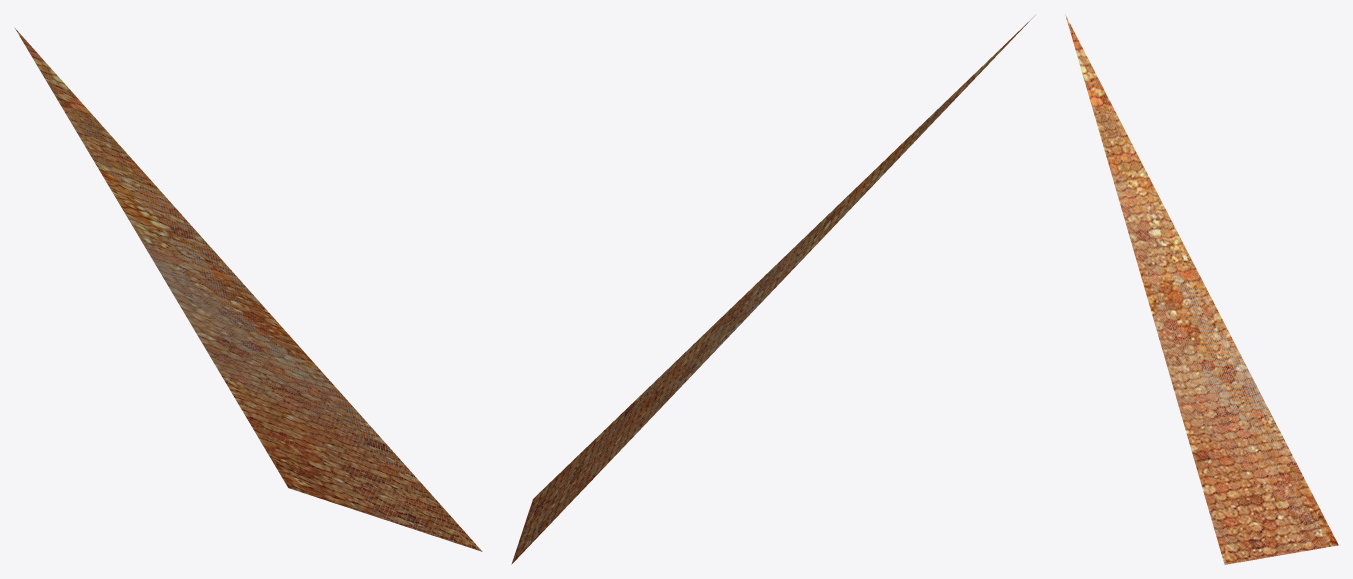
Rendered from 西庸城堡363.dae.
3 views of the same model, side by side, from view 1: azimuth 30°, elevation 25°; view 2: azimuth 150°, elevation 25°; view 3: azimuth 270°, elevation 25° (orthographic). The views are drawn at different scales.
Visible parts, largest first — view 1: SketchUp; view 2: SketchUp; view 3: SketchUp.
Part boxes in pixels (left/top/right/bottom): SketchUp: left=14, top=27, right=482, bottom=551; SketchUp: left=511, top=15, right=1035, bottom=564; SketchUp: left=1065, top=14, right=1338, bottom=564.
Bounding box in the file's own units: 228 × 172 × 276.
